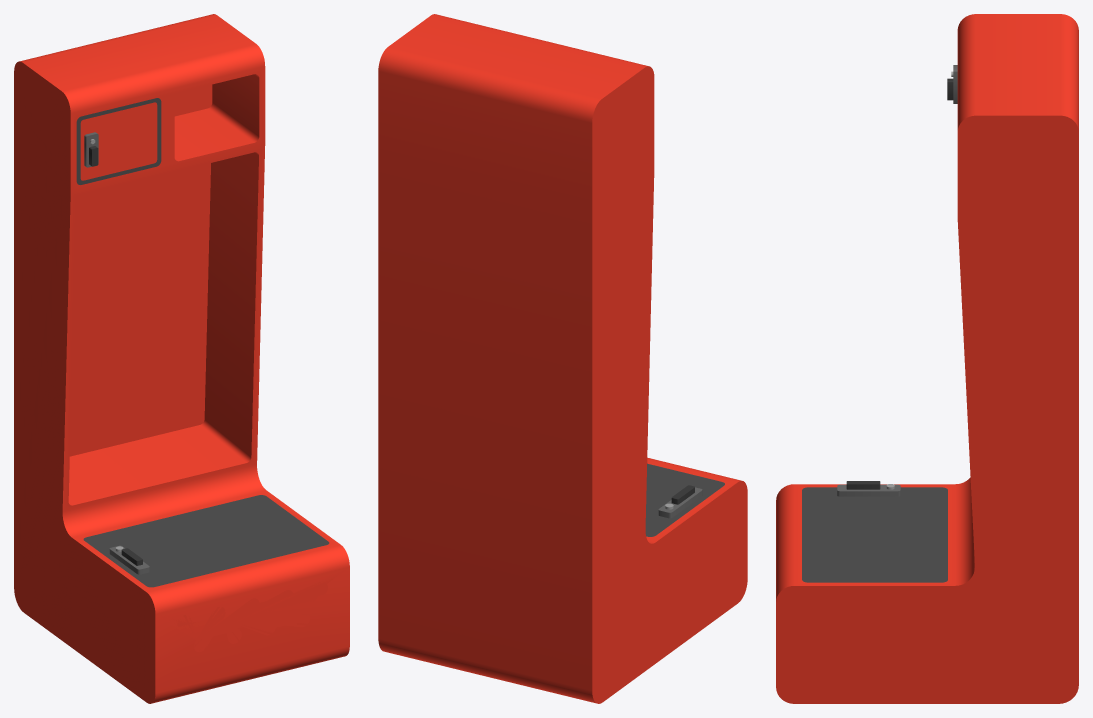
File: Locker Big Red.fbx
The picture shows the model from 3 angles, left to right: view 1: azimuth 30°, elevation 25°; view 2: azimuth 150°, elevation 25°; view 3: azimuth 270°, elevation 25°; orthographic projection. The views are drawn at different scales.
Parts seen in each view (by area): view 1: Locker Big Red, Locker Big Red Door A, Locker Big Red Door B; view 2: Locker Big Red, Locker Big Red Door A; view 3: Locker Big Red, Locker Big Red Door A.
Boxes of the visible parts, left/top/right/bottom form: Locker Big Red: left=14, top=14, right=349, bottom=703; Locker Big Red Door A: left=83, top=495, right=329, bottom=587; Locker Big Red Door B: left=76, top=98, right=161, bottom=184; Locker Big Red: left=378, top=14, right=747, bottom=703; Locker Big Red Door A: left=645, top=463, right=724, bottom=536; Locker Big Red: left=776, top=14, right=1078, bottom=703; Locker Big Red Door A: left=802, top=481, right=947, bottom=582.
Size of the model in its own units: 106 by 286 by 134.
